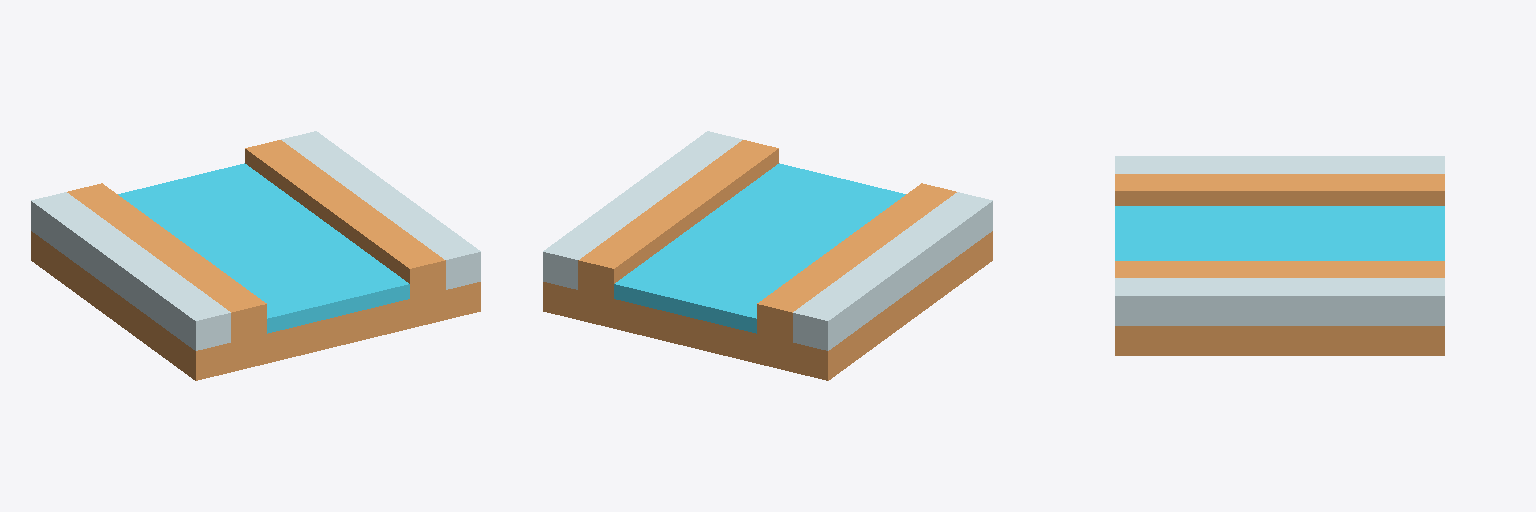
Rendered from snow_tile_riverStraight.obj.
3 renders of one model, left to right at view 1: azimuth 30°, elevation 25°; view 2: azimuth 150°, elevation 25°; view 3: azimuth 270°, elevation 25°, orthographic.
Visible parts, largest first — view 1: snow_tile_riverStraight; view 2: snow_tile_riverStraight; view 3: snow_tile_riverStraight.
Part boxes in pixels (x1,y1,x2,y2): snow_tile_riverStraight: (31,131,480,380); snow_tile_riverStraight: (543,131,992,380); snow_tile_riverStraight: (1115,156,1444,355).
Size of the model in its own units: 1 by 0.2 by 1.